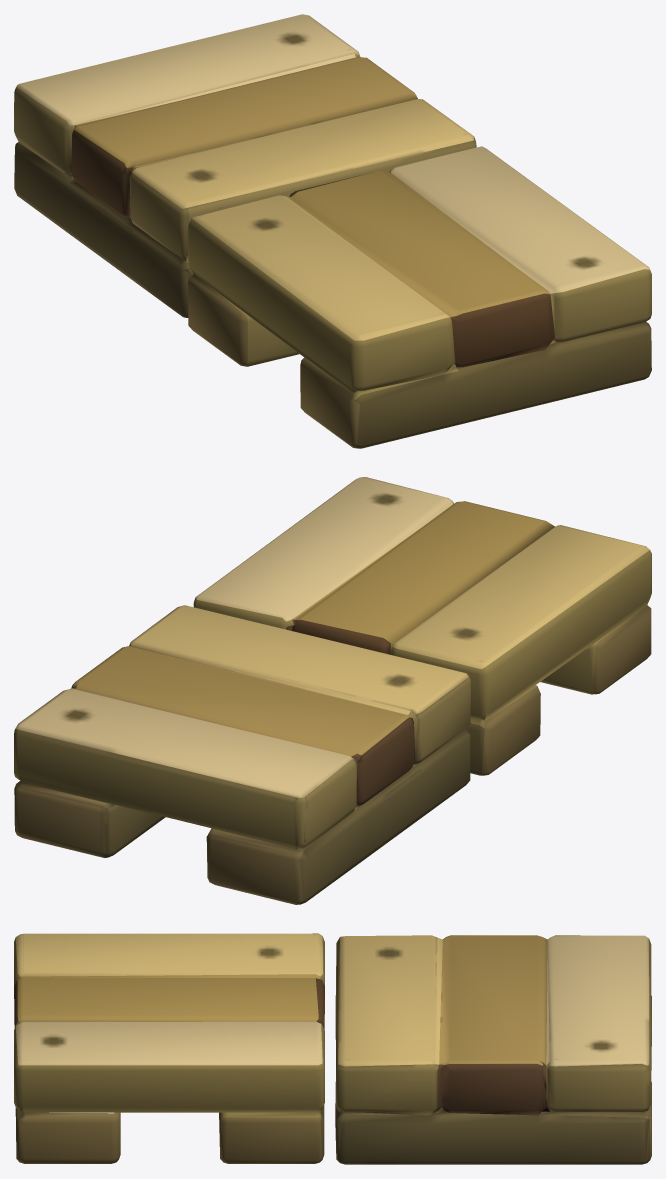
The model's file is Obstacles.fbx.
The picture shows the model from 3 angles, top to bottom: view 1: azimuth 30°, elevation 25°; view 2: azimuth 150°, elevation 25°; view 3: azimuth 270°, elevation 25°; orthographic projection. The views are drawn at different scales.
Visible parts, largest first — view 1: Obstacle 1, Obstacle 2; view 2: Obstacle 2, Obstacle 1; view 3: Obstacle 2, Obstacle 1.
Boxes of the visible parts, x1,y1,x2,y2 form: Obstacle 1: [188, 146, 651, 448]; Obstacle 2: [14, 14, 476, 317]; Obstacle 2: [14, 605, 471, 904]; Obstacle 1: [193, 477, 651, 775]; Obstacle 2: [335, 935, 651, 1164]; Obstacle 1: [14, 933, 324, 1163].
Size of the model in its own units: 34.63 by 12.53 by 69.44.
